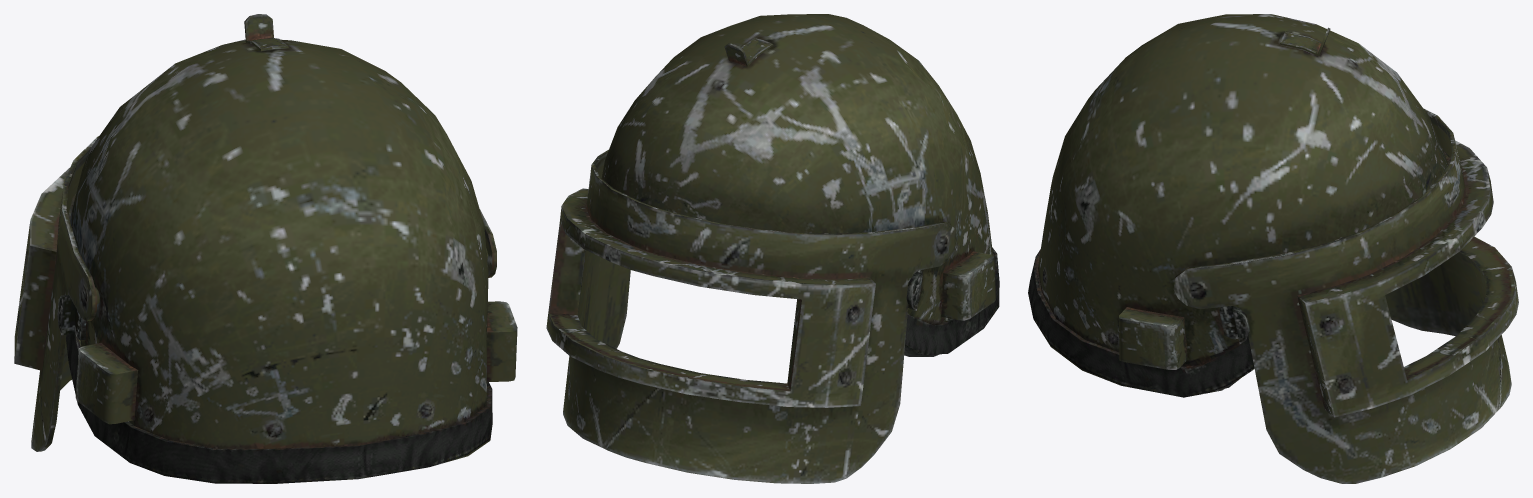
File: Helmet.fbx
The picture shows the model from 3 angles, left to right: view 1: azimuth 30°, elevation 25°; view 2: azimuth 150°, elevation 25°; view 3: azimuth 270°, elevation 25°; orthographic projection. The views are drawn at different scales.
Parts seen in each view (by area): view 1: mesh_0.908; view 2: mesh_0.908; view 3: mesh_0.908.
Part boxes in pixels (box(x1,y1,x2,y2)): mesh_0.908: box(14, 14, 517, 483); mesh_0.908: box(546, 14, 999, 483); mesh_0.908: box(1028, 14, 1518, 483).
Size of the model in its own units: 0.3099 by 0.3123 by 0.3623.
